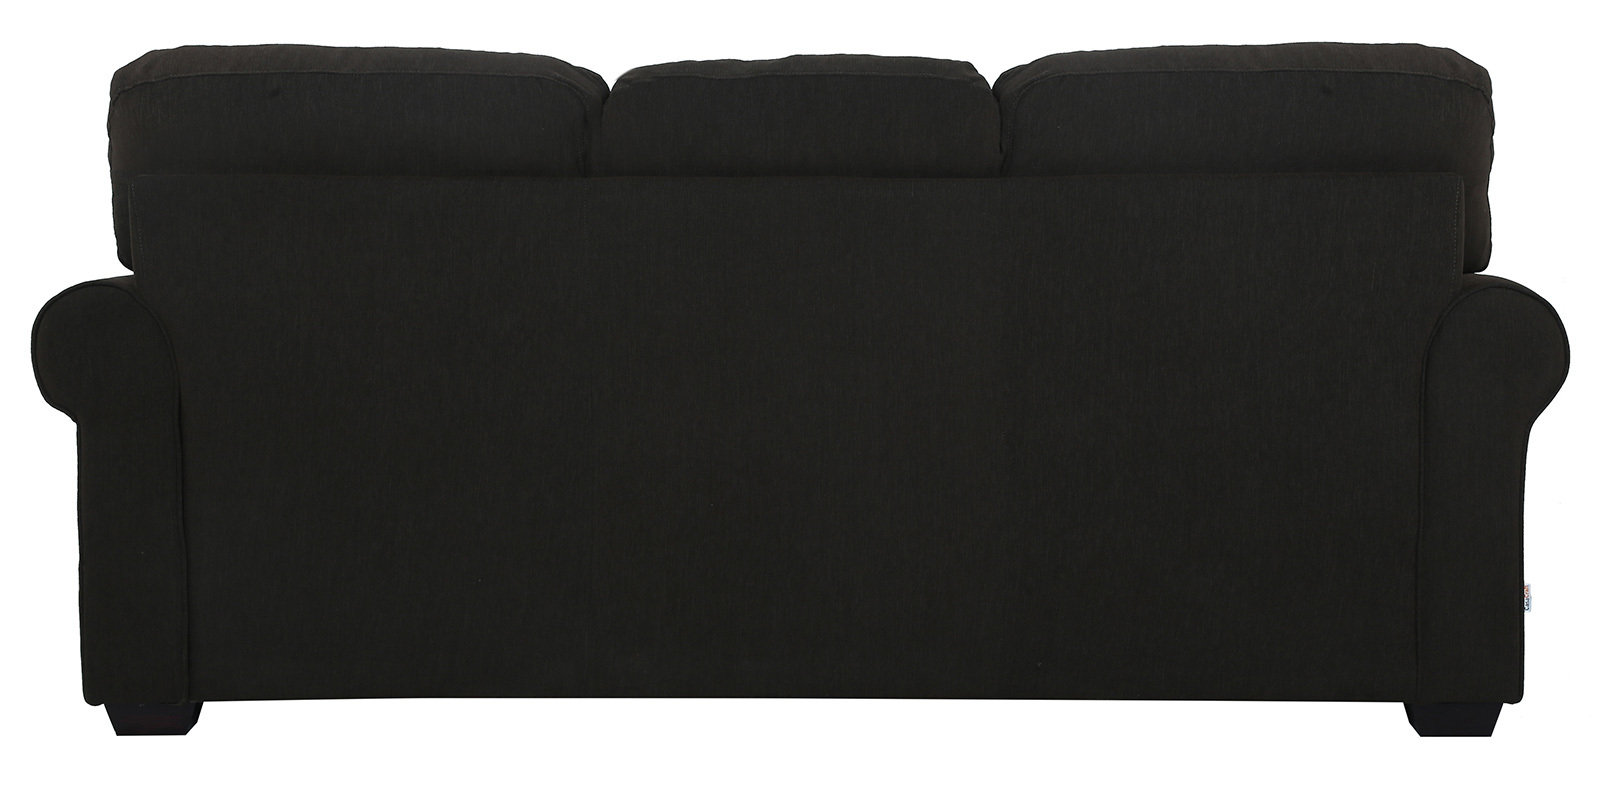Madeira Three Seater Sofa in Chestnut Brown Colour by CasaCraft: (28, 39, 1570, 737)
